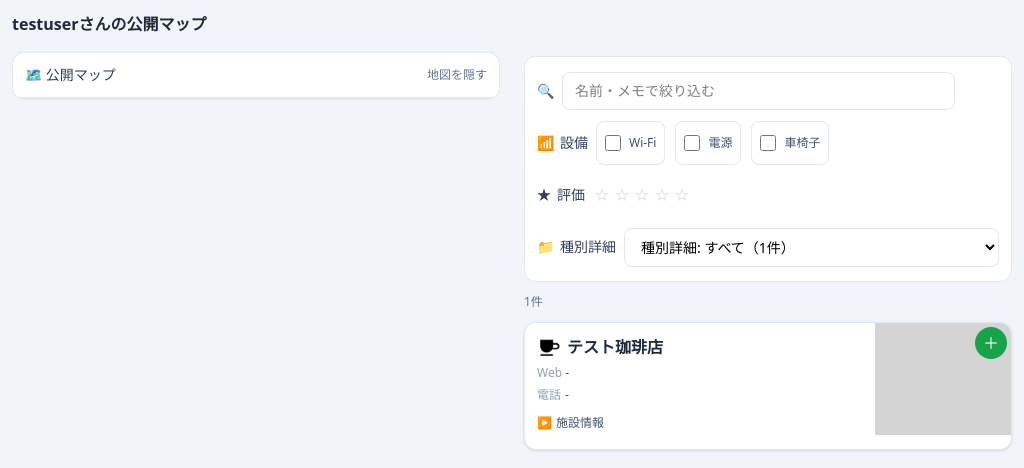
Test case: ピースG2: フィルタ・メモ帳追加 › 「メモ帳に追加」でこの端末のメモ帳に保存される（tags を含む）
This screenshot has width=1024, height=468.
Check: the heading "テスト珈琲店" is shown, box [567, 335, 663, 359]
// 「メモ帳に追加」ボタンがある（検索結果カードと同じトグル）
Click the button named "メモ帳に追加".
click(991, 343)  # box [975, 327, 1007, 359]
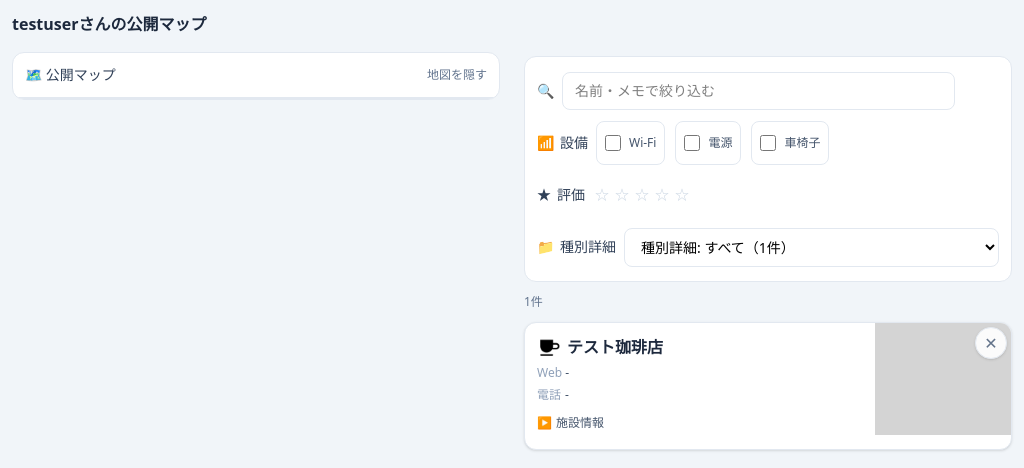
Check: the heading "テスト珈琲店" is shown, box [567, 335, 663, 359]
Check: the button named "メモ帳から削除" is shown, box [975, 327, 1007, 359]
